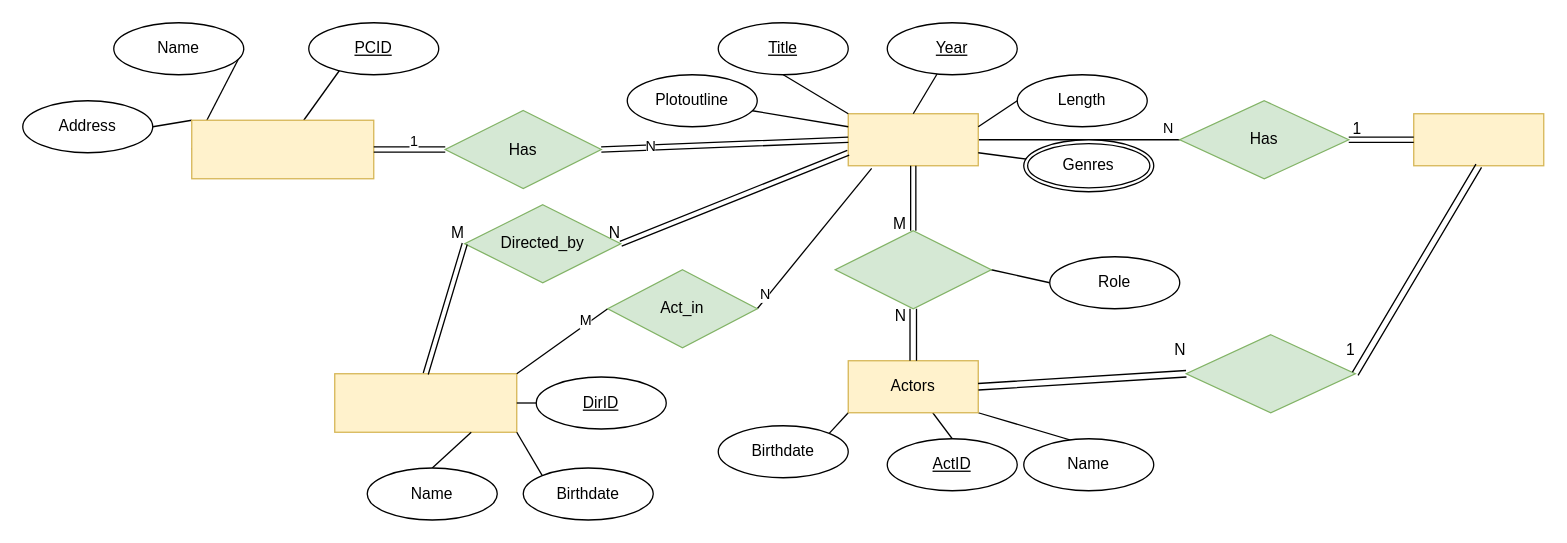
This 1567x543 diagram has some shape labels left out. The shapes that lost their labels are listed below. From the top down, each one's centre as x and y in pixels, then its label:
At (282,149): "ProductionCompany".
At (912,139): "Movies".
At (1478,139): "Quotes".
At (912,269): "Acted_by".
At (1270,373): "Speaks".
At (425,402): "Directors".
